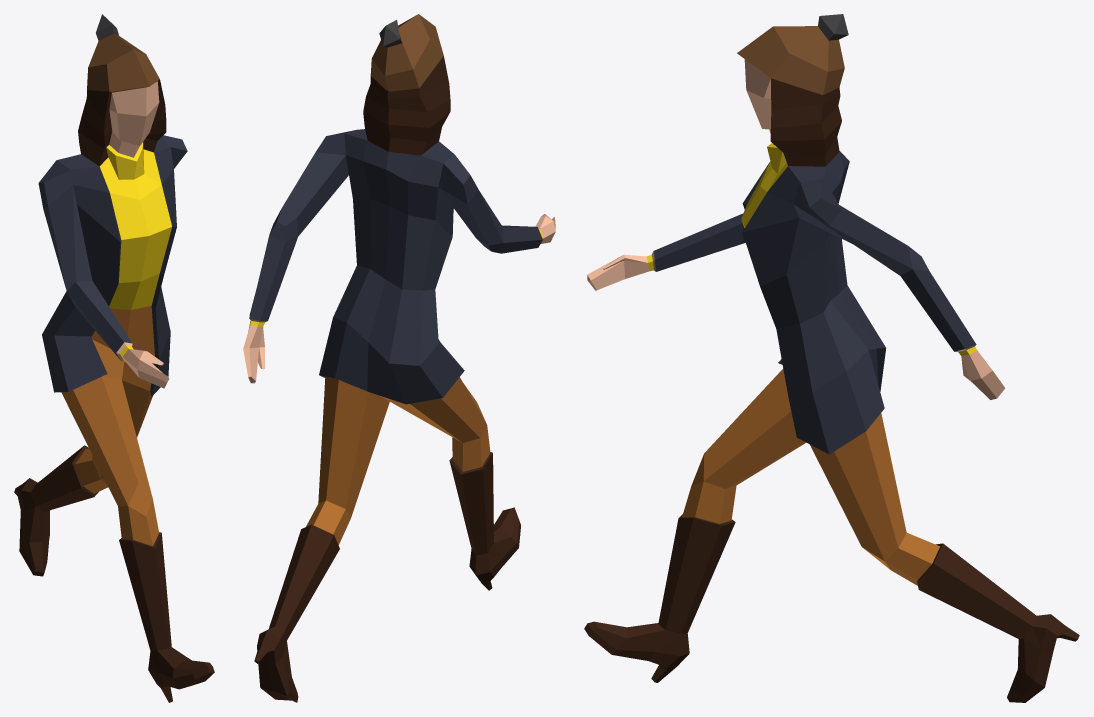
File: AutumnWomanB.002.glb
3 renders of one model, left to right at view 1: azimuth 30°, elevation 25°; view 2: azimuth 150°, elevation 25°; view 3: azimuth 270°, elevation 25°, orthographic. The views are drawn at different scales.
Parts seen in each view (by area): view 1: AutumnWomanB.002; view 2: AutumnWomanB.002; view 3: AutumnWomanB.002.
Part boxes in pixels (<box>): AutumnWomanB.002: <box>14,14,214,702</box>; AutumnWomanB.002: <box>243,14,555,702</box>; AutumnWomanB.002: <box>584,14,1079,702</box>.
Size of the model in its own units: 0.4289 by 1.62 by 1.07.
Materials: 1 (1 with a texture image).
